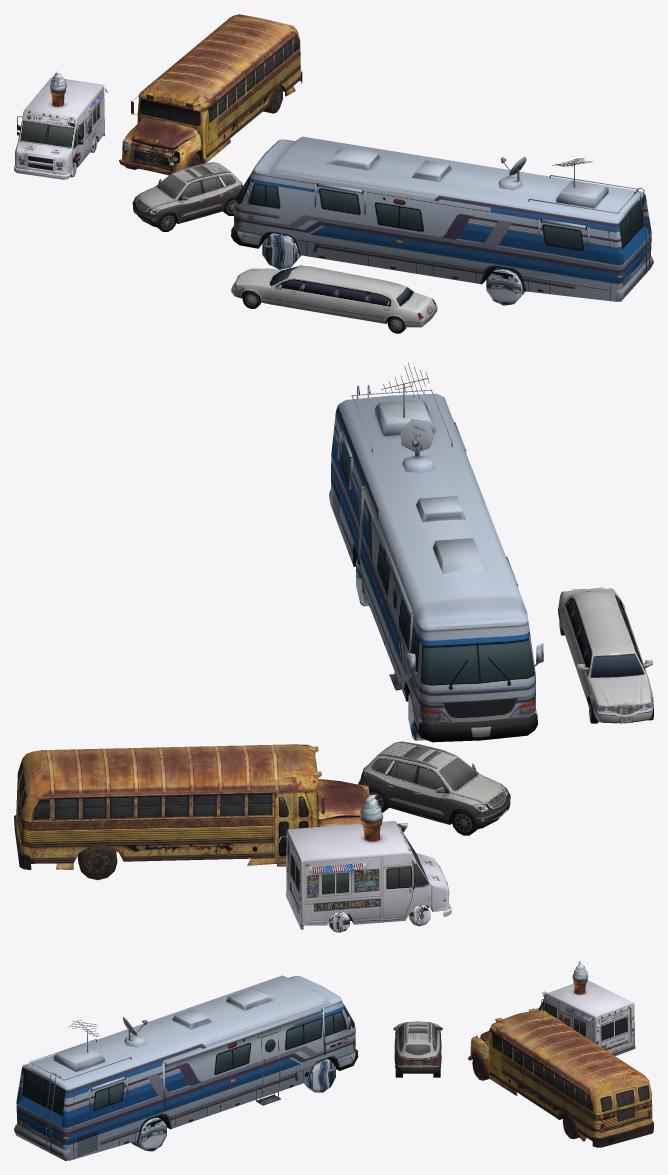
Rendered from cars__vehicles_pack_set_2_unity3d.glb.
The picture shows the model from 3 angles, top to bottom: view 1: azimuth 30°, elevation 25°; view 2: azimuth 150°, elevation 25°; view 3: azimuth 270°, elevation 25°; orthographic projection. The views are drawn at different scales.
Parts seen in each view (by area): view 1: Cars & Vehicles Pack Set 2_0; view 2: Cars & Vehicles Pack Set 2_0; view 3: Cars & Vehicles Pack Set 2_0.
Part boxes in pixels (box(x1,y1,x2,y2)): Cars & Vehicles Pack Set 2_0: box(14, 14, 653, 333); Cars & Vehicles Pack Set 2_0: box(14, 362, 653, 932); Cars & Vehicles Pack Set 2_0: box(14, 961, 653, 1160).
Size of the model in its own units: 61.6 by 23.04 by 103.
Materials: 5 (5 with a texture image).
